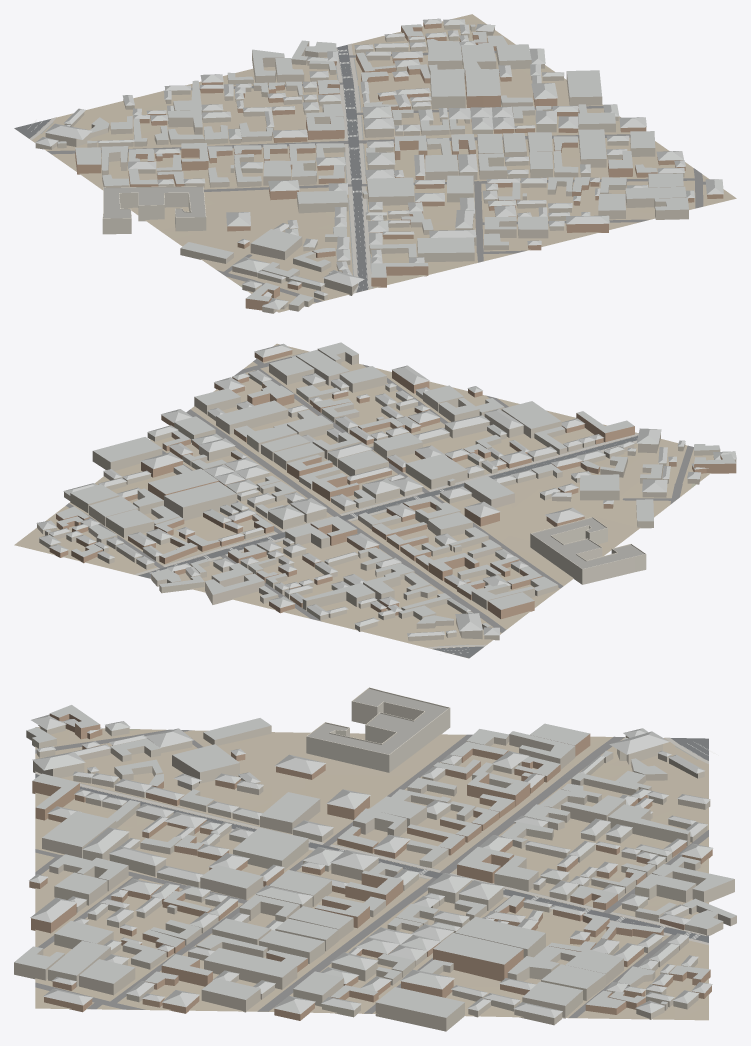
Rendered from bolak_4_3.glb.
3 renders of one model, top to bottom at view 1: azimuth 30°, elevation 25°; view 2: azimuth 150°, elevation 25°; view 3: azimuth 270°, elevation 25°, orthographic. The views are drawn at different scales.
Visible parts, largest first — view 1: Tom_Shifer, Yer_Tuproq-col, Devor_Suvoq-col, Devor_Gisht-col, Yol_Mahalla-col, Yol_Asfalt-col, Devor_Jamoat-col, Trotuar, Tom_Tekis; view 2: Tom_Shifer, Yer_Tuproq-col, Devor_Suvoq-col, Devor_Gisht-col, Yol_Mahalla-col, Devor_Jamoat-col, Yol_Asfalt-col, Tom_Tekis, Trotuar; view 3: Tom_Shifer, Yer_Tuproq-col, Devor_Suvoq-col, Devor_Gisht-col, Yol_Mahalla-col, Devor_Jamoat-col, Tom_Tekis, Yol_Asfalt-col, Trotuar.
Boxes of the visible parts, bbox=[...] form: Tom_Shifer: bbox=[35, 18, 723, 309]; Yer_Tuproq-col: bbox=[15, 14, 736, 312]; Devor_Suvoq-col: bbox=[35, 25, 688, 313]; Devor_Gisht-col: bbox=[75, 22, 723, 310]; Yol_Mahalla-col: bbox=[47, 47, 705, 302]; Yol_Asfalt-col: bbox=[14, 45, 368, 292]; Devor_Jamoat-col: bbox=[102, 186, 206, 234]; Trotuar: bbox=[29, 43, 372, 293]; Tom_Tekis: bbox=[103, 187, 205, 218]; Tom_Shifer: bbox=[36, 342, 736, 636]; Yer_Tuproq-col: bbox=[14, 343, 713, 658]; Devor_Suvoq-col: bbox=[37, 349, 736, 641]; Devor_Gisht-col: bbox=[49, 350, 736, 619]; Yol_Mahalla-col: bbox=[66, 356, 693, 632]; Devor_Jamoat-col: bbox=[530, 517, 646, 584]; Yol_Asfalt-col: bbox=[138, 435, 637, 658]; Tom_Tekis: bbox=[532, 518, 644, 568]; Trotuar: bbox=[134, 433, 638, 648]; Tom_Shifer: bbox=[14, 705, 736, 1017]; Yer_Tuproq-col: bbox=[35, 727, 708, 1020]; Devor_Suvoq-col: bbox=[14, 724, 736, 1031]; Devor_Gisht-col: bbox=[29, 713, 712, 1020]; Yol_Mahalla-col: bbox=[35, 729, 708, 1017]; Devor_Jamoat-col: bbox=[306, 687, 450, 772]; Tom_Tekis: bbox=[308, 688, 447, 754]; Yol_Asfalt-col: bbox=[35, 738, 708, 942]; Trotuar: bbox=[35, 737, 708, 945].
Size of what is drawn, in the model's own units: 460 by 19.34 by 429.
